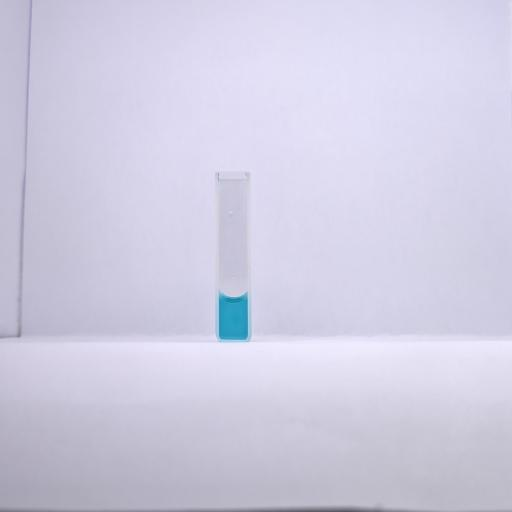cuvette: (214, 170, 254, 344)
liquid: (219, 294, 247, 340)
